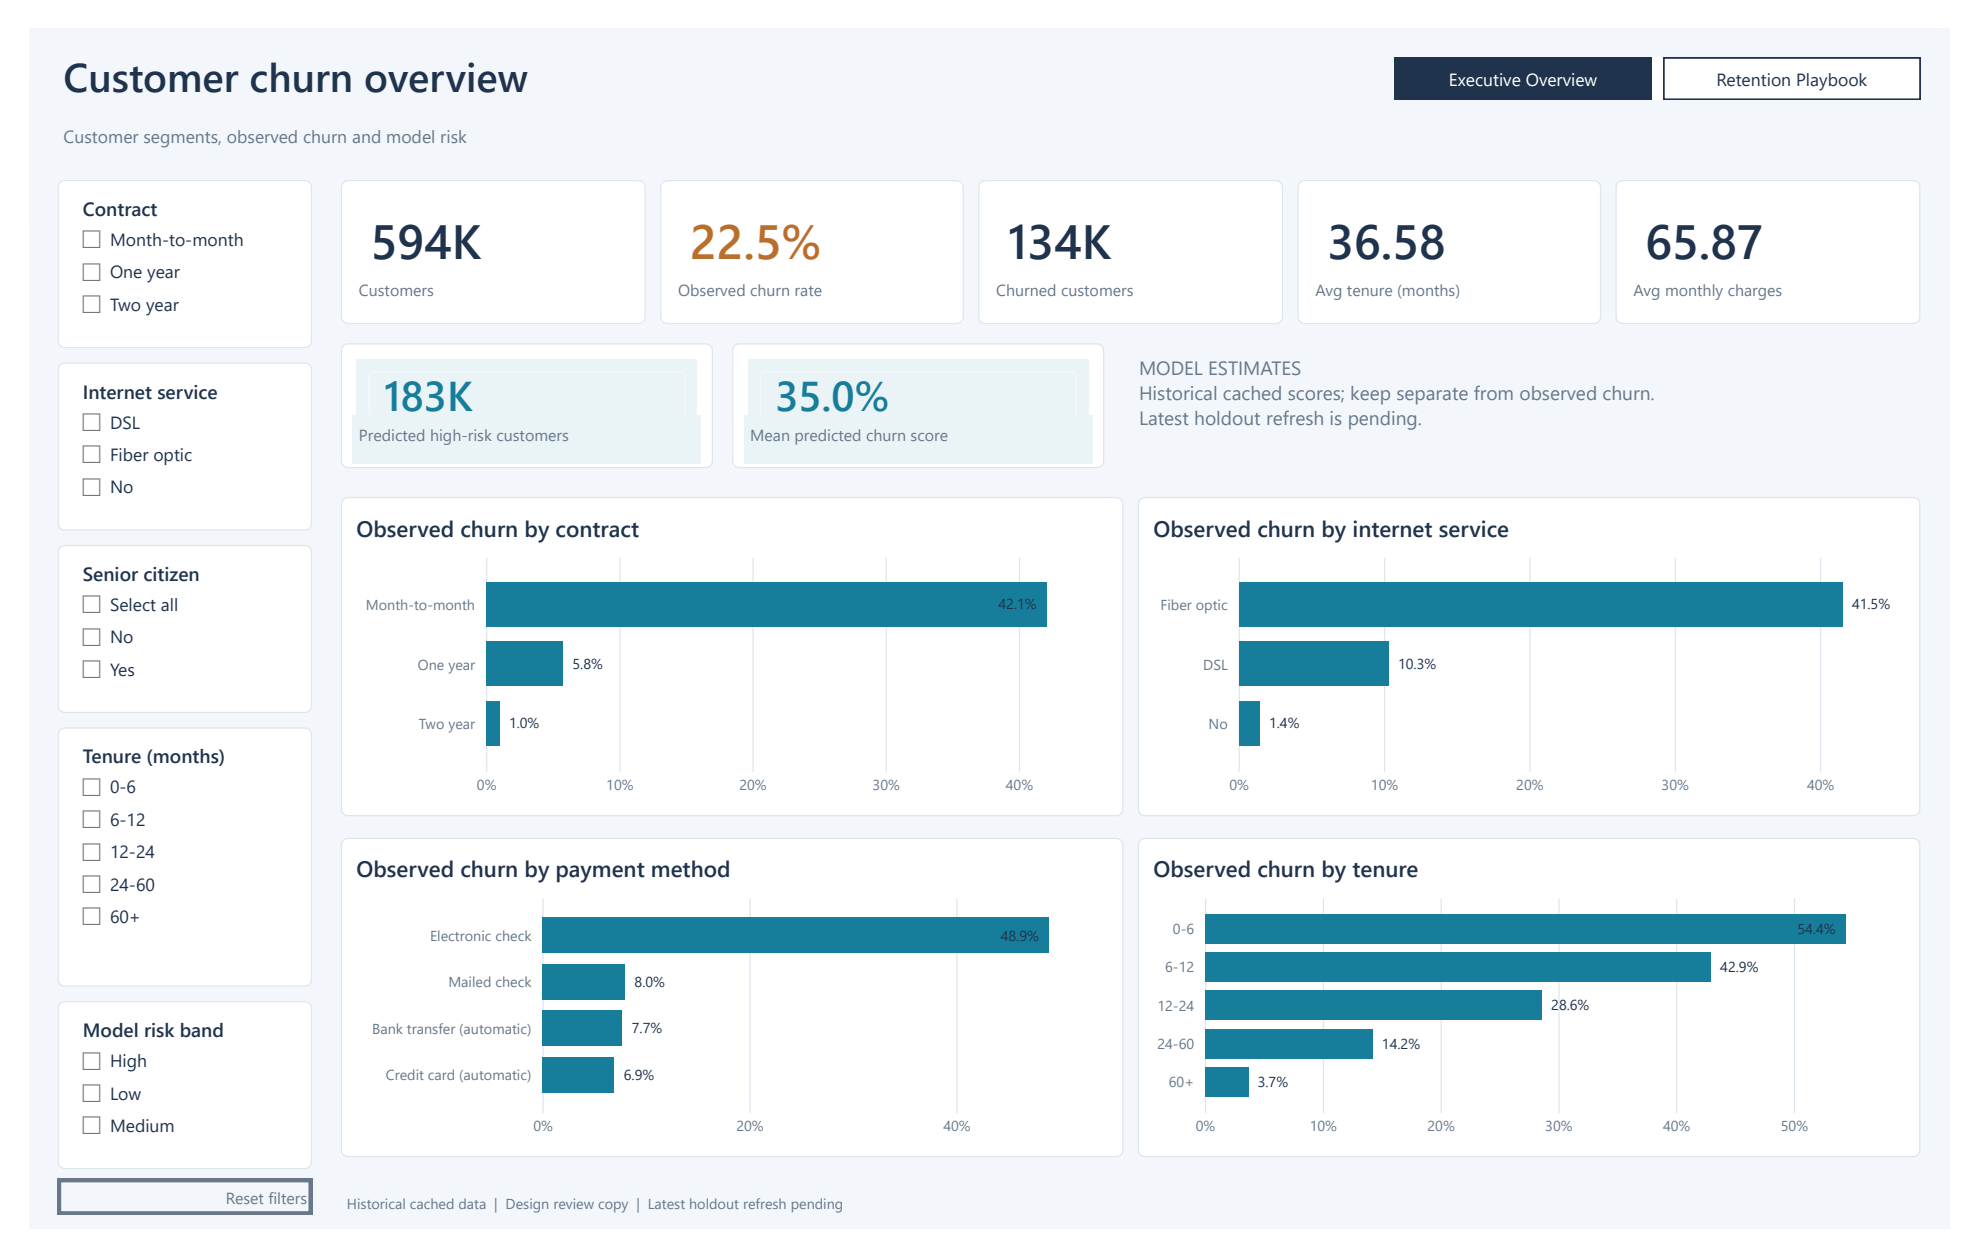

This screenshot's page, from the dashboard's own definition file:
{"tool":"powerbi","page":{"name":"Executive Overview","canvas":[1600,1000],"ordinal":0},"visuals":[{"type":"textbox","box":[24,12,1020,64],"z":1000},{"type":"slicer","fields":{"Values":["train.Contract"]},"box":[24,126,212,140],"z":2000},{"type":"slicer","fields":{"Values":["train.InternetService"]},"box":[24,278,212,140],"z":3000},{"type":"slicer","fields":{"Values":["train.SeniorCitizen_Label"]},"box":[24,430,212,140],"z":4000},{"type":"slicer","fields":{"Values":["train.tenure_bucket"]},"box":[24,582,212,216],"z":5000},{"type":"slicer","fields":{"Values":["train.risk_band"]},"box":[24,810,212,140],"z":6000},{"type":"cardVisual","fields":{"Data":["train.Avg Monthly Charges"]},"box":[1322.4,126,253.6,120],"z":7000},{"type":"cardVisual","fields":{"Data":["train.Avg Tenure"]},"box":[1056.8,126,253.6,120],"z":8000},{"type":"cardVisual","fields":{"Data":["train.At Risk Count"]},"box":[791.2,126,253.6,120],"z":9000},{"type":"cardVisual","fields":{"Data":["train.Churn Rate"]},"box":[525.6,126,253.6,120],"z":10000},{"type":"cardVisual","fields":{"Data":["train.Avg Predicted Churn Probability"]},"box":[586,262,310,104],"z":11000},{"type":"cardVisual","fields":{"Data":["train.Total Customers"]},"box":[260,126,253.6,120],"z":12000},{"type":"cardVisual","fields":{"Data":["train.ML At Risk Count"]},"box":[260,262,310,104],"z":14000},{"type":"clusteredBarChart","title":"Observed churn by contract","fields":{"Y":["train.Churn Rate"],"Category":["train.Contract"]},"box":[260,390,652,266],"z":15000},{"type":"clusteredBarChart","title":"Observed churn by payment method","fields":{"Category":["train.PaymentMethod"],"Y":["train.Churn Rate"]},"box":[260,674,652,266],"z":16000},{"type":"clusteredBarChart","title":"Observed churn by tenure","fields":{"Y":["train.Churn Rate"],"Category":["train.tenure_bucket"]},"box":[924,674,652,266],"z":17000},{"type":"clusteredBarChart","title":"Observed churn by internet service","fields":{"Y":["train.Churn Rate"],"Category":["train.InternetService"]},"box":[924,390,652,266],"z":18000},{"type":"pageNavigator","box":[1138,24,438,35],"z":21000},{"type":"actionButton","box":[24,958,212,30],"z":22000},{"type":"textbox","box":[24,74,1100,38],"z":40000},{"type":"textbox","box":[270,202,233.6,40],"z":40000},{"type":"textbox","box":[535.6,202,233.6,40],"z":40000},{"type":"textbox","box":[801.2,202,233.6,40],"z":40000},{"type":"textbox","box":[1066.8,202,233.6,40],"z":40000},{"type":"textbox","box":[1332.4,202,233.6,40],"z":40000},{"type":"textbox","box":[920,266,656,100],"z":40000},{"type":"textbox","box":[270,322,290,40],"z":40000},{"type":"textbox","box":[596,322,290,40],"z":40000},{"type":"textbox","box":[260,962,1316,34],"z":40000}]}

Visuals, with their boxes in screenshot pixels (x1, y1, x2, y2), scaled from the page's 1600x1000 canvas onto the 1978x1258 screenshot:
textbox: box(30, 15, 1291, 96)
slicer - train.Contract: box(30, 159, 292, 335)
slicer - train.InternetService: box(30, 350, 292, 526)
slicer - train.SeniorCitizen_Label: box(30, 541, 292, 717)
slicer - train.tenure_bucket: box(30, 732, 292, 1004)
slicer - train.risk_band: box(30, 1019, 292, 1195)
cardVisual - train.Avg Monthly Charges: box(1635, 159, 1948, 309)
cardVisual - train.Avg Tenure: box(1306, 159, 1620, 309)
cardVisual - train.At Risk Count: box(978, 159, 1292, 309)
cardVisual - train.Churn Rate: box(650, 159, 963, 309)
cardVisual - train.Avg Predicted Churn Probability: box(724, 330, 1108, 460)
cardVisual - train.Total Customers: box(321, 159, 635, 309)
cardVisual - train.ML At Risk Count: box(321, 330, 705, 460)
"Observed churn by contract" clusteredBarChart: box(321, 491, 1127, 825)
"Observed churn by payment method" clusteredBarChart: box(321, 848, 1127, 1183)
"Observed churn by tenure" clusteredBarChart: box(1142, 848, 1948, 1183)
"Observed churn by internet service" clusteredBarChart: box(1142, 491, 1948, 825)
pageNavigator: box(1407, 30, 1948, 74)
actionButton: box(30, 1205, 292, 1243)
textbox: box(30, 93, 1390, 141)
textbox: box(334, 254, 623, 304)
textbox: box(662, 254, 951, 304)
textbox: box(990, 254, 1279, 304)
textbox: box(1319, 254, 1608, 304)
textbox: box(1647, 254, 1936, 304)
textbox: box(1137, 335, 1948, 460)
textbox: box(334, 405, 692, 455)
textbox: box(737, 405, 1095, 455)
textbox: box(321, 1210, 1948, 1253)
